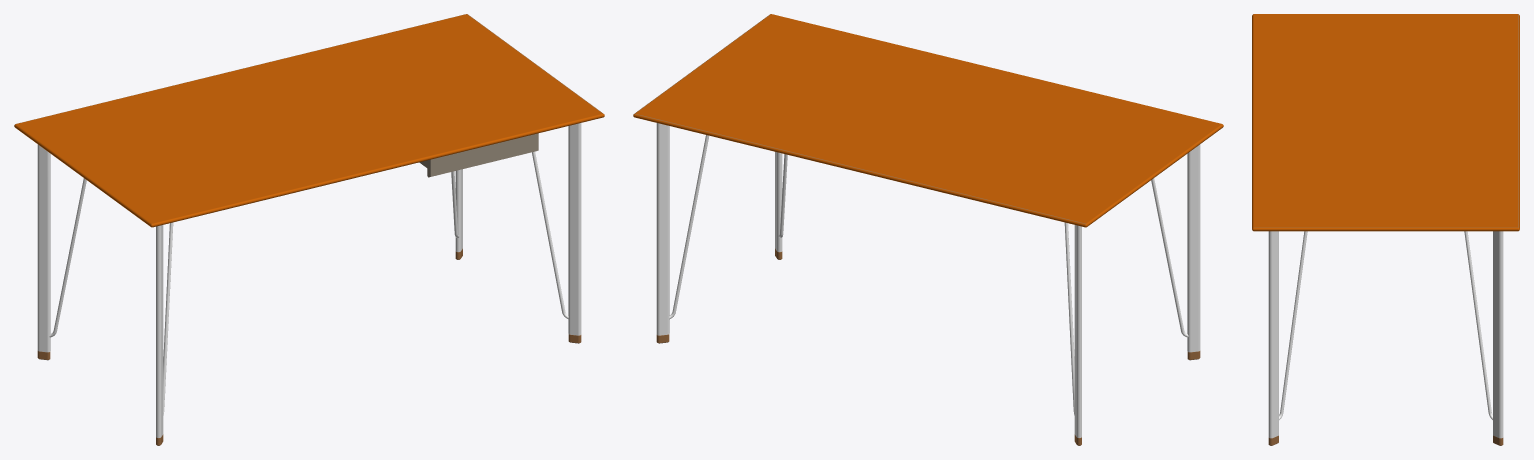
The model's file is table4.glb.
3 views of the same model, side by side, from view 1: azimuth 30°, elevation 25°; view 2: azimuth 150°, elevation 25°; view 3: azimuth 270°, elevation 25° (orthographic). The views are drawn at different scales.
Parts seen in each view (by area): view 1: Solid22, Solid7, Solid12, Solid26, Solid17, Solid19, Solid9, Solid14, Solid2; view 2: Solid22, Solid2, Solid17, Solid12, Solid4, Solid14, Solid7, Solid19; view 3: Solid22, Solid2, Solid7, Solid4, Solid9.
Part boxes in pixels (x1,y1,x2,y2): Solid22: [14, 14, 604, 227]; Solid7: [568, 123, 581, 335]; Solid12: [37, 144, 50, 352]; Solid26: [427, 133, 538, 177]; Solid17: [156, 225, 163, 437]; Solid19: [163, 222, 173, 415]; Solid9: [532, 151, 568, 319]; Solid14: [49, 178, 86, 337]; Solid2: [455, 169, 462, 252]; Solid22: [633, 14, 1223, 227]; Solid2: [656, 123, 669, 335]; Solid17: [1187, 144, 1200, 352]; Solid12: [1074, 225, 1081, 437]; Solid4: [669, 135, 709, 319]; Solid14: [1064, 222, 1074, 415]; Solid7: [775, 152, 782, 252]; Solid19: [1151, 178, 1188, 337]; Solid22: [1252, 14, 1519, 231]; Solid2: [1493, 231, 1503, 438]; Solid7: [1268, 231, 1278, 438]; Solid4: [1464, 231, 1492, 419]; Solid9: [1279, 231, 1307, 419].
Bounding box in the file's own units: 1.52 × 0.742 × 0.8.
